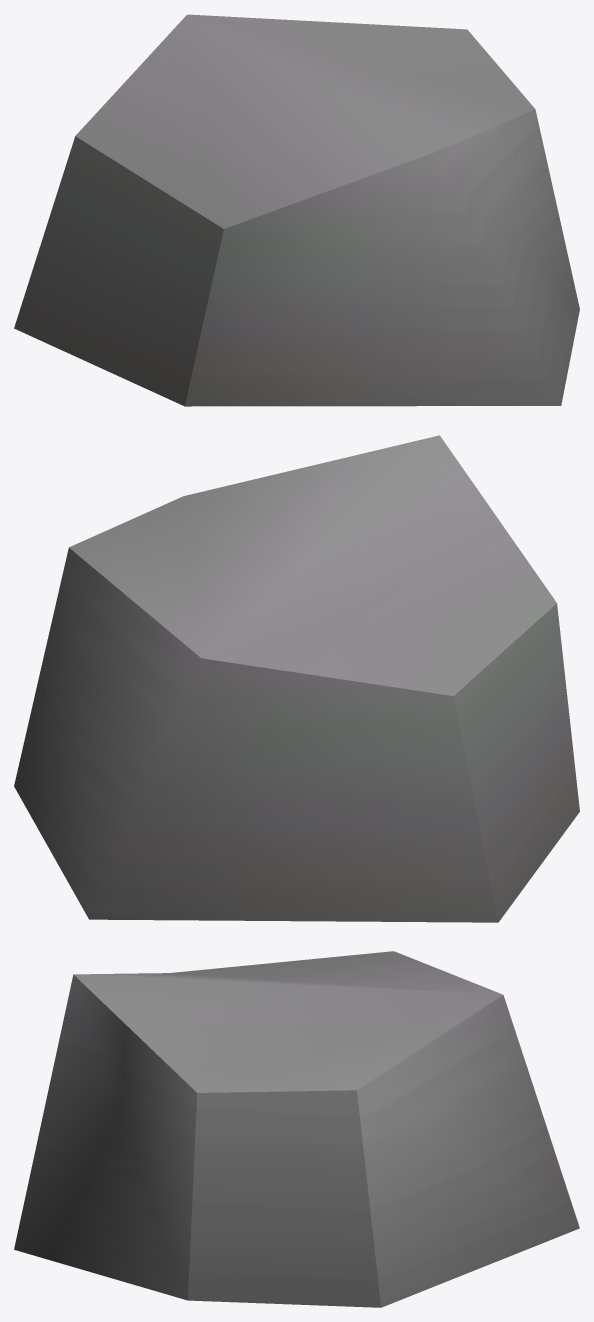
File: sten.glb
3 views of the same model, one above another, from view 1: azimuth 30°, elevation 25°; view 2: azimuth 150°, elevation 25°; view 3: azimuth 270°, elevation 25° (orthographic). The views are drawn at different scales.
Visible parts, largest first — view 1: Rock001; view 2: Rock001; view 3: Rock001.
Part boxes in pixels (x1=…): Rock001: x1=14, y1=14, x2=579, y2=406; Rock001: x1=14, y1=435, x2=579, y2=922; Rock001: x1=14, y1=951, x2=579, y2=1307.
Bounding box in the file's own units: 405 × 213 × 468.
Materials: 1 (1 with a texture image).
